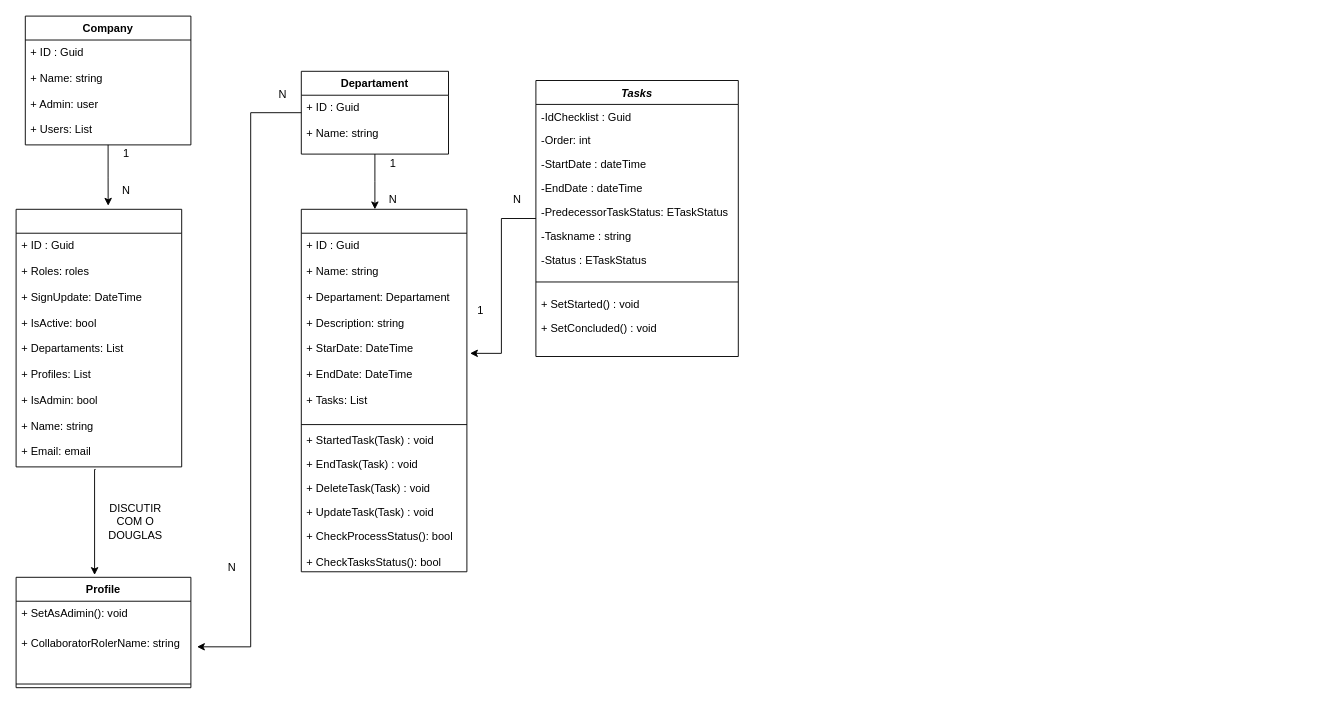
Image size: 1325x704. Some labels were removed from this diagram. Here are the shapes that lost their labels. From the top down, the box of each, then its label:
(15, 208, 182, 467): Usuário
(300, 208, 467, 572): CheckoutProcess
